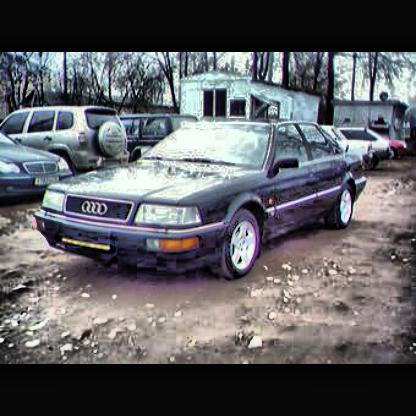Audi V8 Sedan 1994: (38, 121, 369, 282)
